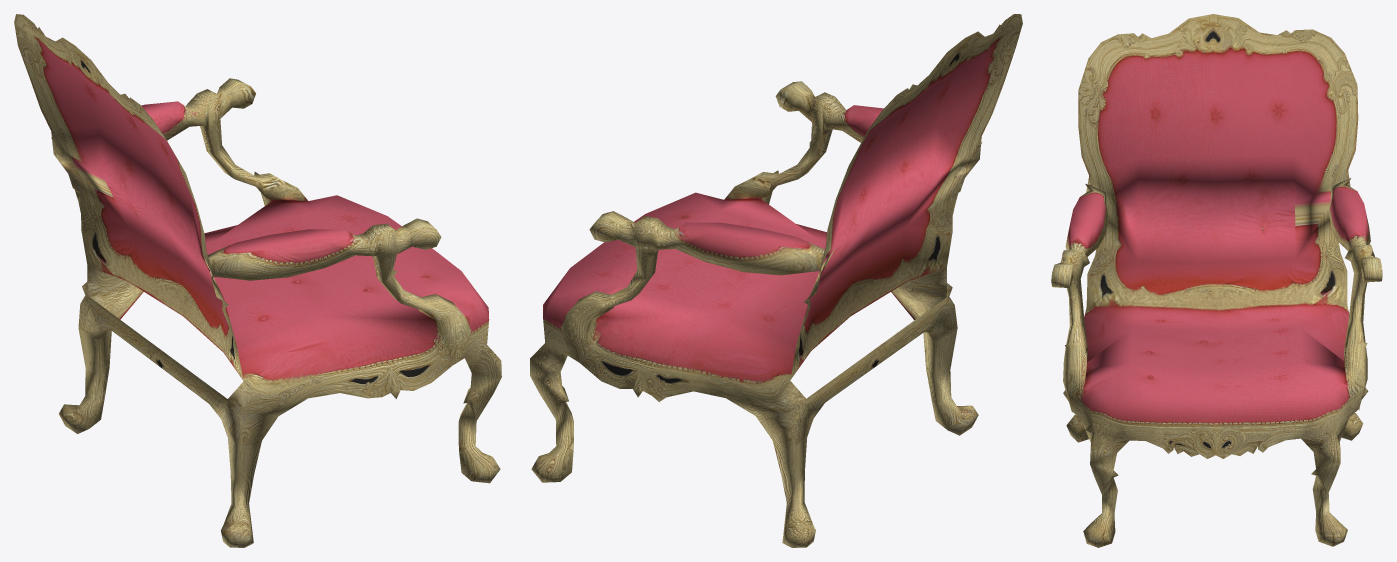
File: baroque+chair+3d+model.glb
3 views of the same model, side by side, from view 1: azimuth 30°, elevation 25°; view 2: azimuth 150°, elevation 25°; view 3: azimuth 270°, elevation 25° (orthographic). The views are drawn at different scales.
Parts seen in each view (by area): view 1: tripo_node_4ec42856-0385-400c-a64a-87275c7d9f82; view 2: tripo_node_4ec42856-0385-400c-a64a-87275c7d9f82; view 3: tripo_node_4ec42856-0385-400c-a64a-87275c7d9f82.
Boxes of the visible parts, x1,y1,x2,y2 form: tripo_node_4ec42856-0385-400c-a64a-87275c7d9f82: (14, 14, 501, 547); tripo_node_4ec42856-0385-400c-a64a-87275c7d9f82: (530, 14, 1022, 547); tripo_node_4ec42856-0385-400c-a64a-87275c7d9f82: (1051, 14, 1382, 547).
Size of the model in its own units: 0.8223 by 0.998 by 0.7676.
1 material, 1 textured.
